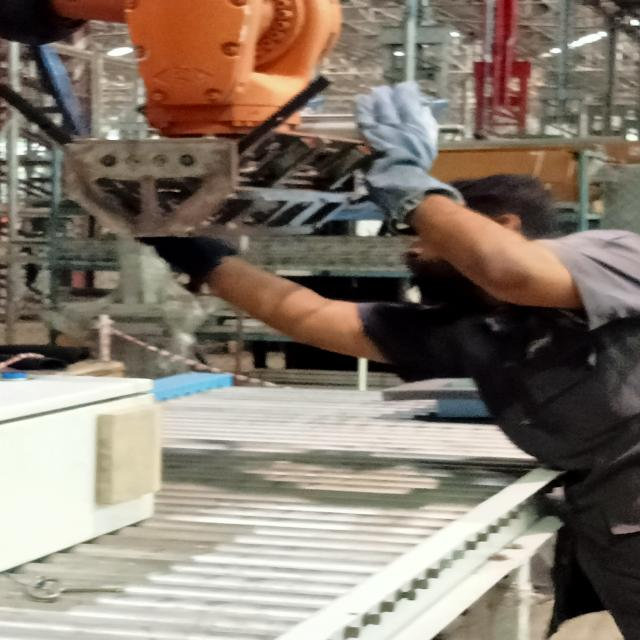Gloves-Detection: (353, 78, 466, 223)
